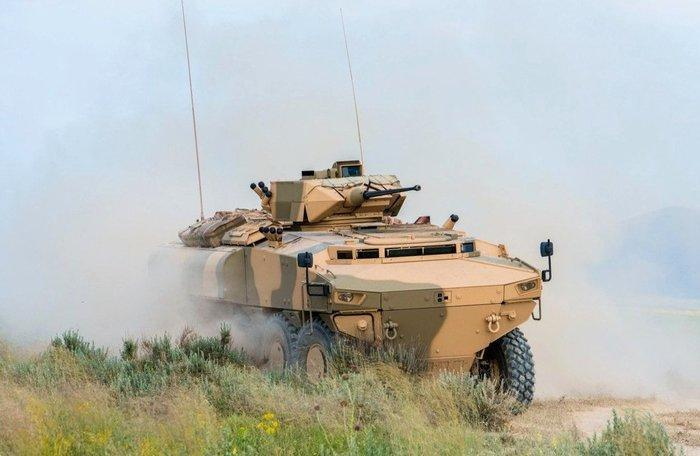MIL_IFV: (135, 156, 555, 419)
